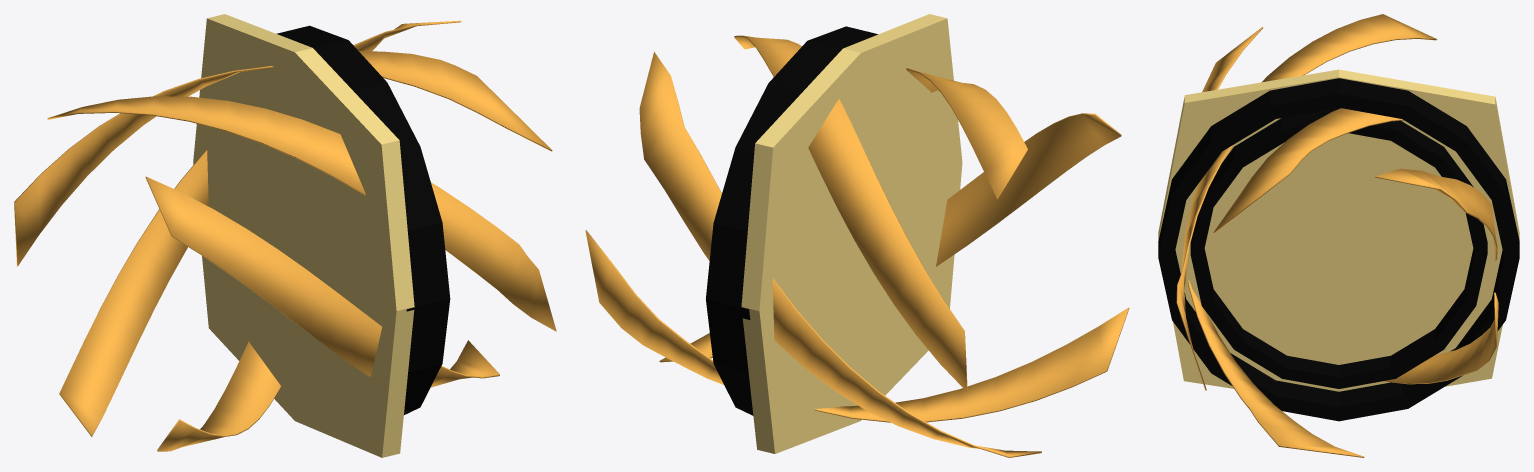
Rendered from EmissorLuz.fbx.
The picture shows the model from 3 angles, left to right: view 1: azimuth 30°, elevation 25°; view 2: azimuth 150°, elevation 25°; view 3: azimuth 270°, elevation 25°; orthographic projection. The views are drawn at different scales.
Visible parts, largest first — view 1: EmissoLuz, BaseEmissor, Circle.008; view 2: EmissoLuz, BaseEmissor, Circle.008; view 3: BaseEmissor, Circle.008, EmissoLuz, Circle.007.
Boxes of the visible parts, left/top/right/bottom form: EmissoLuz: left=14, top=20, right=556, bottom=451; BaseEmissor: left=193, top=14, right=414, bottom=457; Circle.008: left=276, top=25, right=450, bottom=414; EmissoLuz: left=585, top=35, right=1129, bottom=457; BaseEmissor: left=741, top=14, right=962, bottom=453; Circle.008: left=706, top=26, right=877, bottom=415; BaseEmissor: left=1158, top=69, right=1519, bottom=391; Circle.008: left=1158, top=78, right=1519, bottom=421; EmissoLuz: left=1176, top=14, right=1498, bottom=457; Circle.007: left=1190, top=107, right=1487, bottom=388.
Bounding box in the file's own units: 64.56 × 60 × 59.86.
